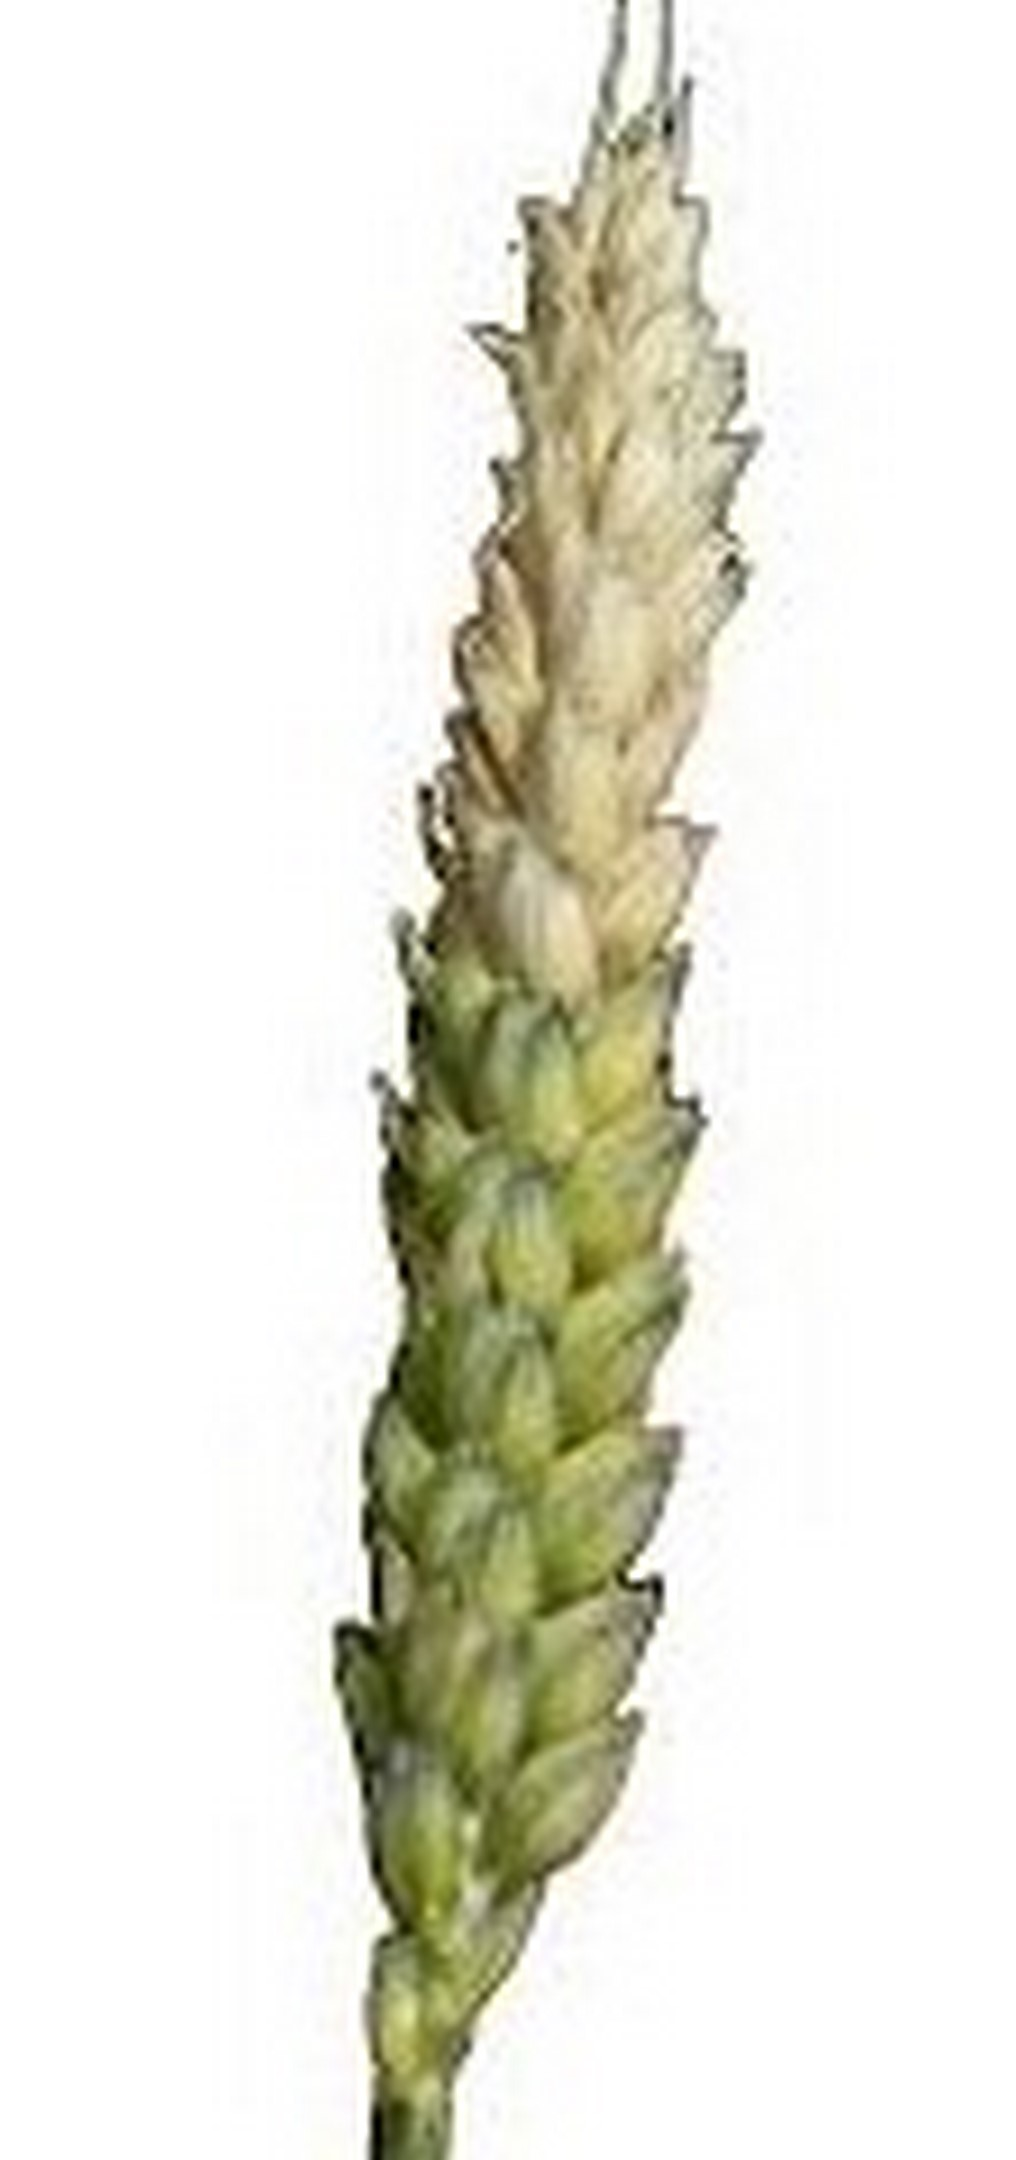Wheat scab: (311, 87, 851, 1977)
